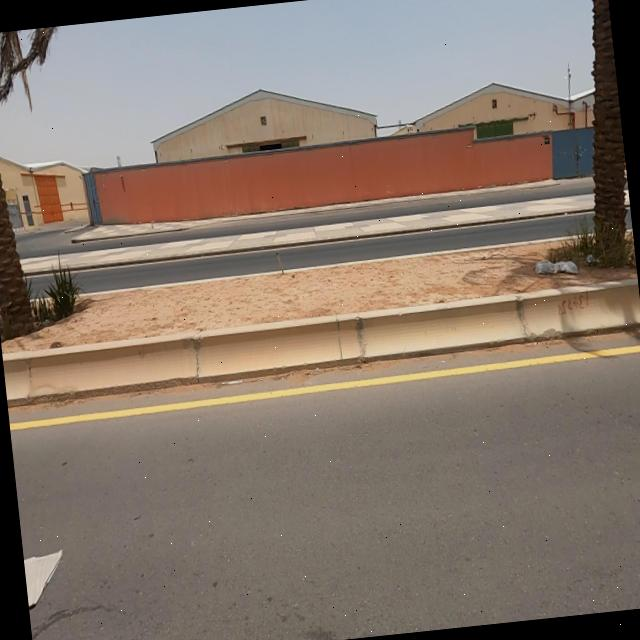Graffiti: (554, 292, 593, 318)
